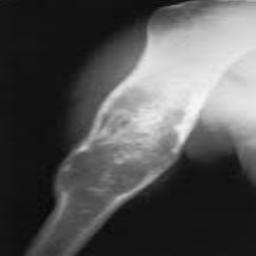cancer: (32, 62, 202, 256)
